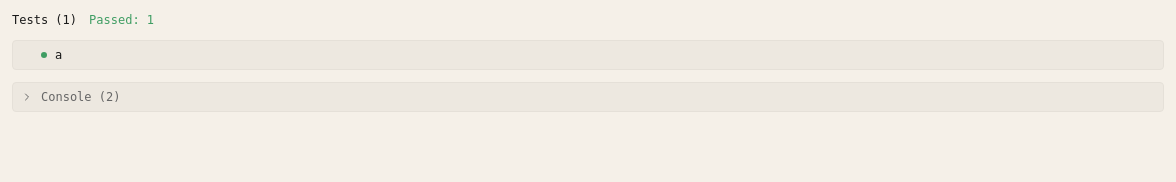
Test case: TestResultsView — console logs › shows a collapsed count and expands to the joined log lines
Check: the text "Console (2)" is shown, box x1=41 y1=89 x2=120 y2=105
Check: the text "first" is not shown
Click the button "Console (2)". click: [74, 97]
box: x1=13 y1=83 x2=1163 y2=111
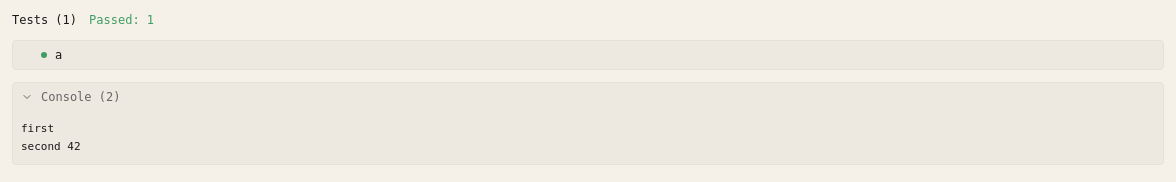
Check: the text "first" is shown, box x1=21 y1=122 x2=81 y2=153
